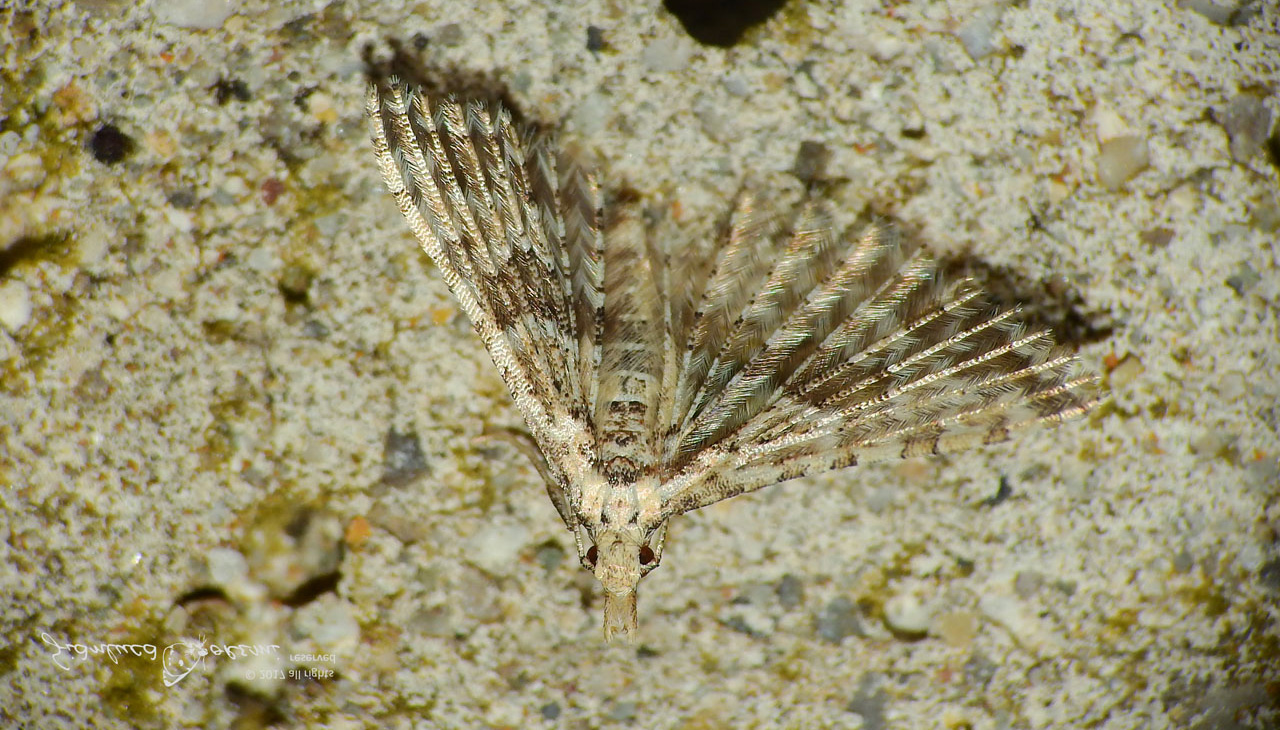Alucitidae: (362, 58, 1133, 643)
moth: (364, 60, 1135, 645)
